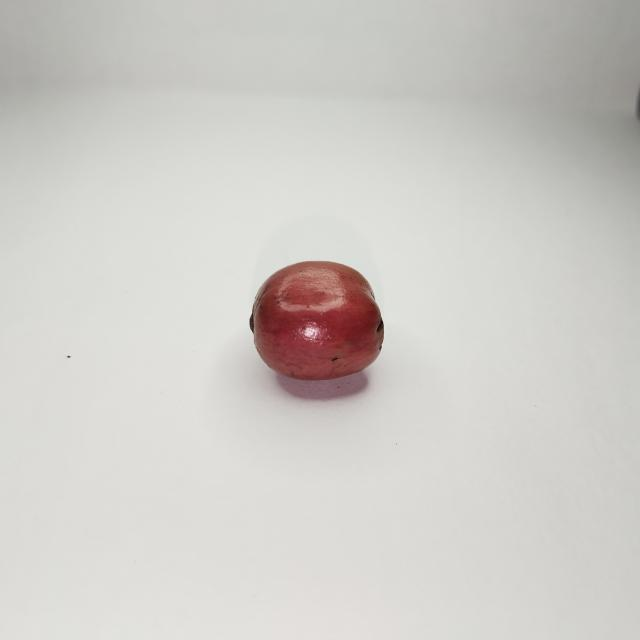Sano: (249, 260, 383, 380)
